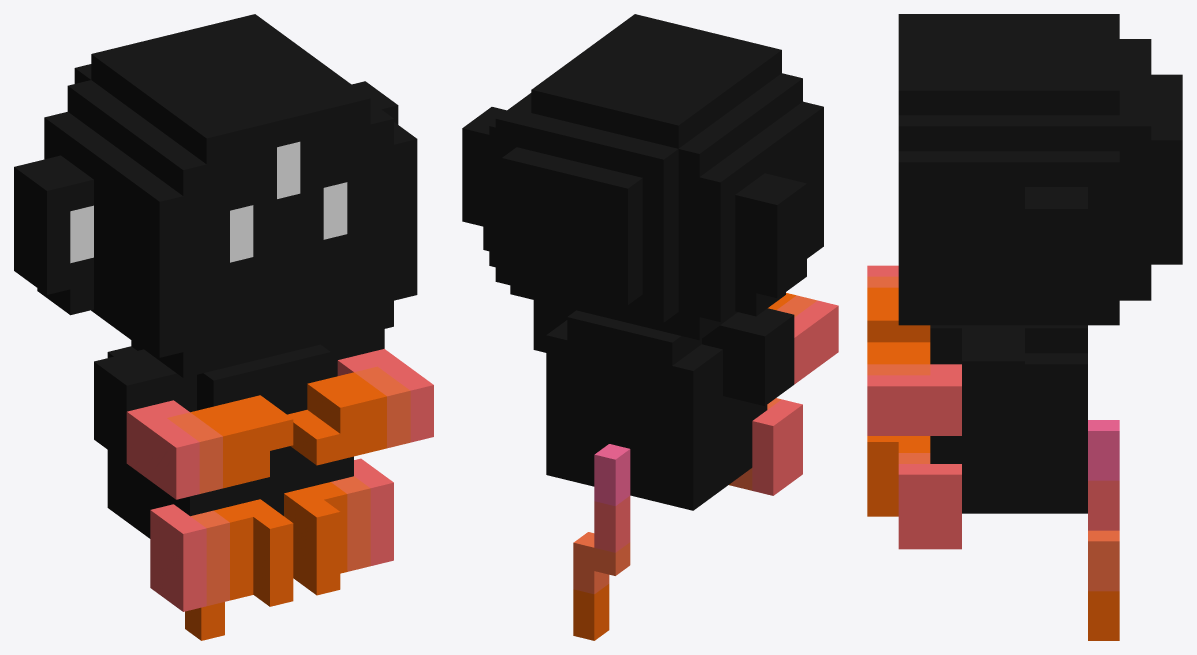
File: CharacterOrange.FBX
3 views of the same model, side by side, from view 1: azimuth 30°, elevation 25°; view 2: azimuth 150°, elevation 25°; view 3: azimuth 270°, elevation 25° (orthographic). The views are drawn at different scales.
Visible parts, largest first — view 1: CharacterOrange; view 2: CharacterOrange; view 3: CharacterOrange.
Boxes of the visible parts, <box> form: CharacterOrange: <box>14,14,433,640</box>; CharacterOrange: <box>462,14,838,640</box>; CharacterOrange: <box>867,14,1182,640</box>.
Size of the model in its own units: 0.8 by 1.3 by 0.65.
1 material, 1 textured.
